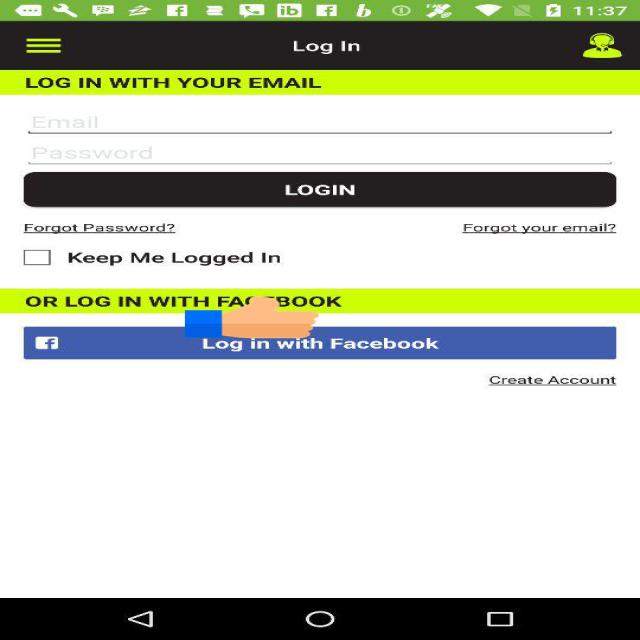privacy zuckering: (185, 296, 319, 340)
